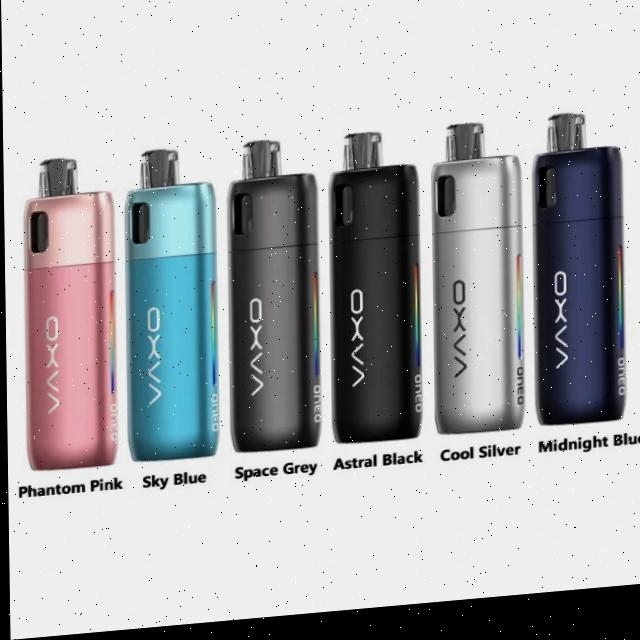vape: (528, 119, 625, 439), (223, 141, 320, 460), (325, 135, 422, 453), (427, 127, 524, 445), (21, 155, 116, 474), (121, 149, 216, 468)
